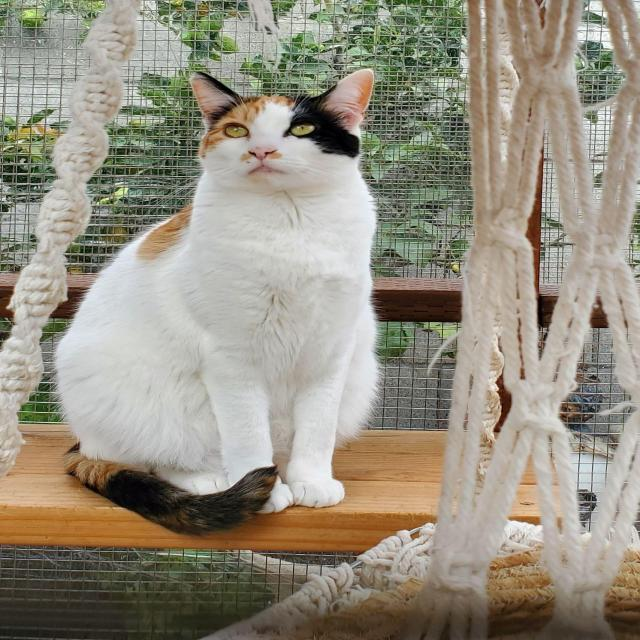calico_cat: (170, 62, 395, 201)
